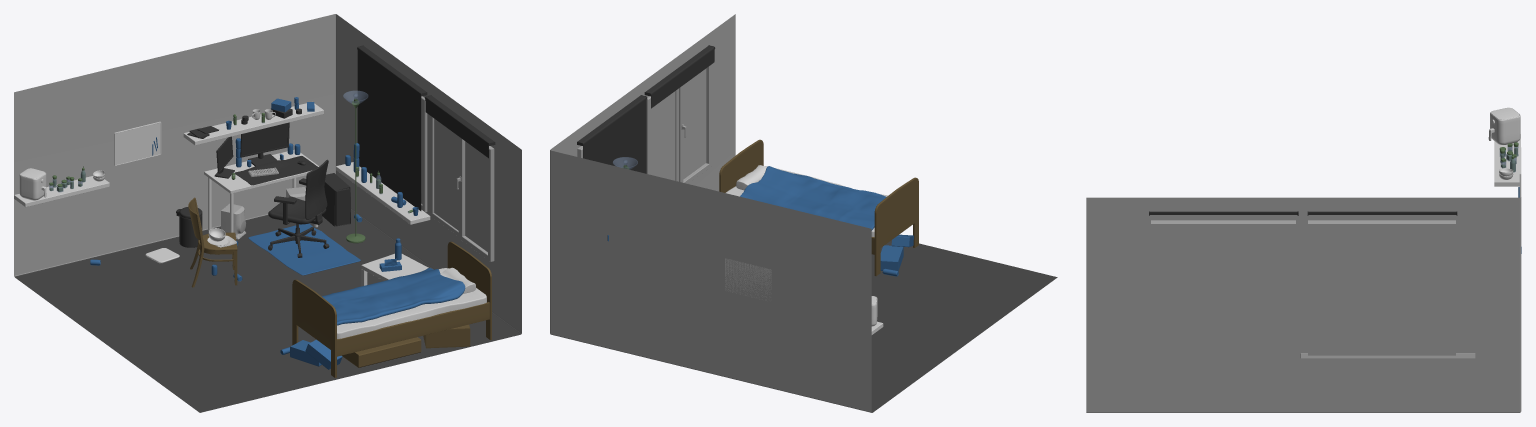
The model's file is NewFinalProjectExport.fbx.
The picture shows the model from 3 angles, left to right: view 1: azimuth 30°, elevation 25°; view 2: azimuth 150°, elevation 25°; view 3: azimuth 270°, elevation 25°; orthographic projection. The views are drawn at different scales.
Parts seen in each view (by area): view 1: Room, BigBlinds, GoodWindow, Bed, Blanket, Carpet, PcChair, Mattress, WhiteBoard, PcTable, Shelf2, BigMonitor (+16 smaller); view 2: Room, GoodWindow, Blanket, Bed, BigBlinds, Blinds, WhiteBoard, BigBox2; view 3: Room, BadWindow, GoodWindow, AirFryer, Shelf3, Shelf1, BigBlinds, Blinds.
Part boxes in pixels (x1=…): Room: x1=14, y1=14, x2=521, y2=412; BigBlinds: x1=357, y1=45, x2=427, y2=210; GoodWindow: x1=430, y1=116, x2=494, y2=261; Bed: x1=292, y1=241, x2=491, y2=377; Blanket: x1=322, y1=268, x2=465, y2=325; Carpet: x1=248, y1=223, x2=360, y2=275; PcChair: x1=268, y1=159, x2=329, y2=257; Mattress: x1=337, y1=268, x2=486, y2=338; WhiteBoard: x1=114, y1=121, x2=161, y2=165; PcTable: x1=204, y1=149, x2=318, y2=232; Shelf2: x1=183, y1=103, x2=323, y2=145; BigMonitor: x1=240, y1=122, x2=289, y2=166; Room: x1=550, y1=14, x2=1057, y2=412; GoodWindow: x1=646, y1=64, x2=711, y2=183; Blanket: x1=740, y1=166, x2=886, y2=230; Bed: x1=719, y1=139, x2=918, y2=276; BigBlinds: x1=577, y1=95, x2=647, y2=173; Blinds: x1=644, y1=45, x2=715, y2=108; WhiteBoard: x1=725, y1=258, x2=771, y2=300; BigBox2: x1=880, y1=245, x2=903, y2=271; Room: x1=1086, y1=197, x2=1521, y2=412; BadWindow: x1=1308, y1=220, x2=1455, y2=355; GoodWindow: x1=1151, y1=220, x2=1295, y2=355; AirFryer: x1=1488, y1=107, x2=1520, y2=144; Shelf3: x1=1300, y1=353, x2=1475, y2=358; Shelf1: x1=1494, y1=134, x2=1520, y2=186; BigBlinds: x1=1307, y1=211, x2=1457, y2=215; Blinds: x1=1149, y1=211, x2=1298, y2=215.
Bounding box in the file's own units: 4.29 × 2.3 × 4.2.
